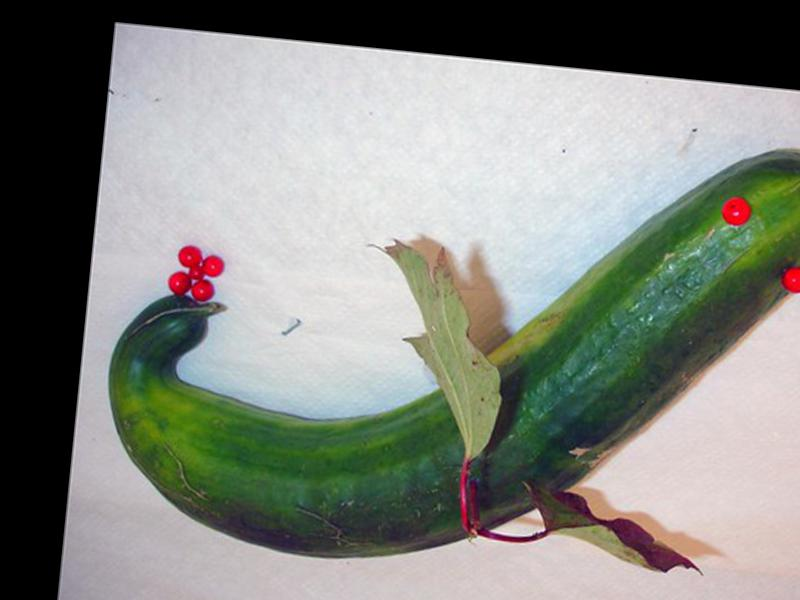Cucumber: (93, 86, 800, 600)
